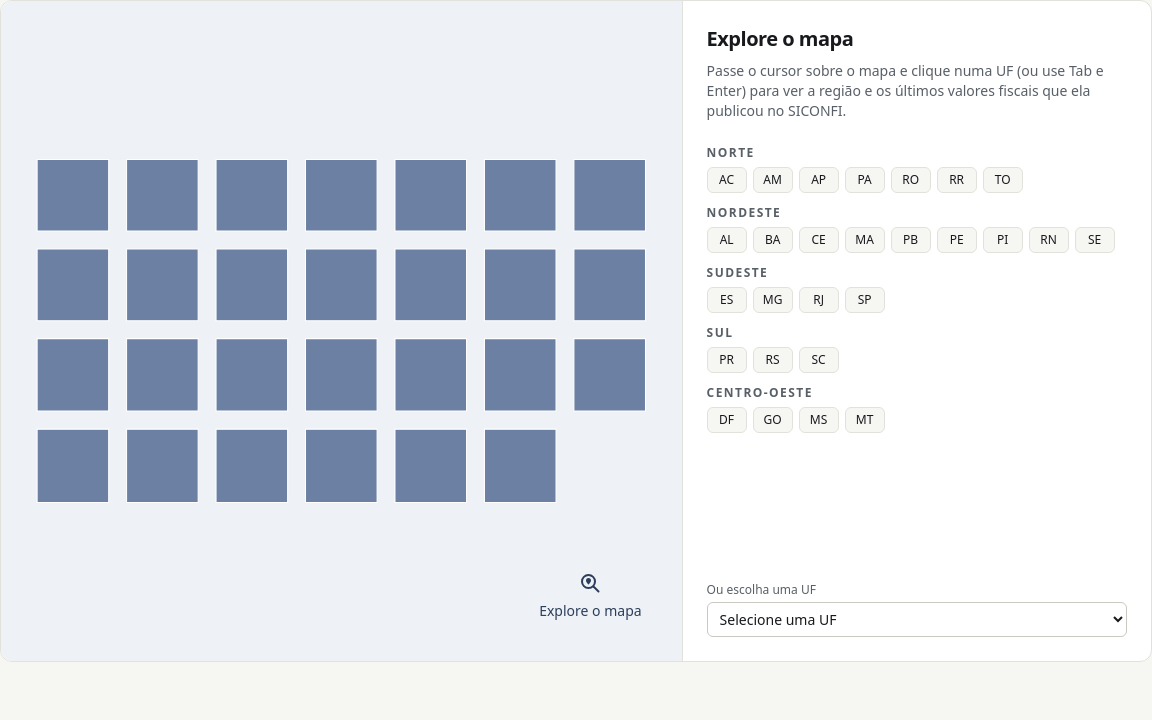
StateExplorer › the list picker selects a UF
The image size is (1152, 720).
Select "Goiás" in the dropdown labelled "Ou escolha uma UF" at (917, 620), box left=707, top=602, right=1127, bottom=637
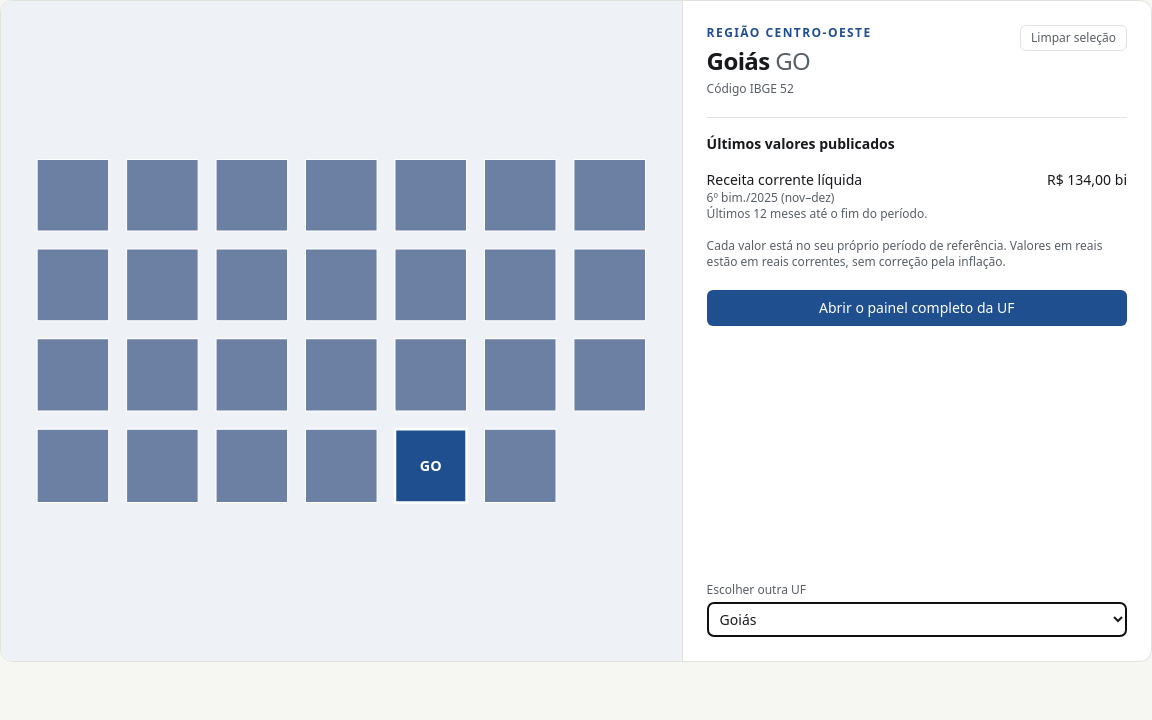
Check: the element "Goiás GO" shows "Região Centro-Oeste", box left=707, top=25, right=1127, bottom=326
